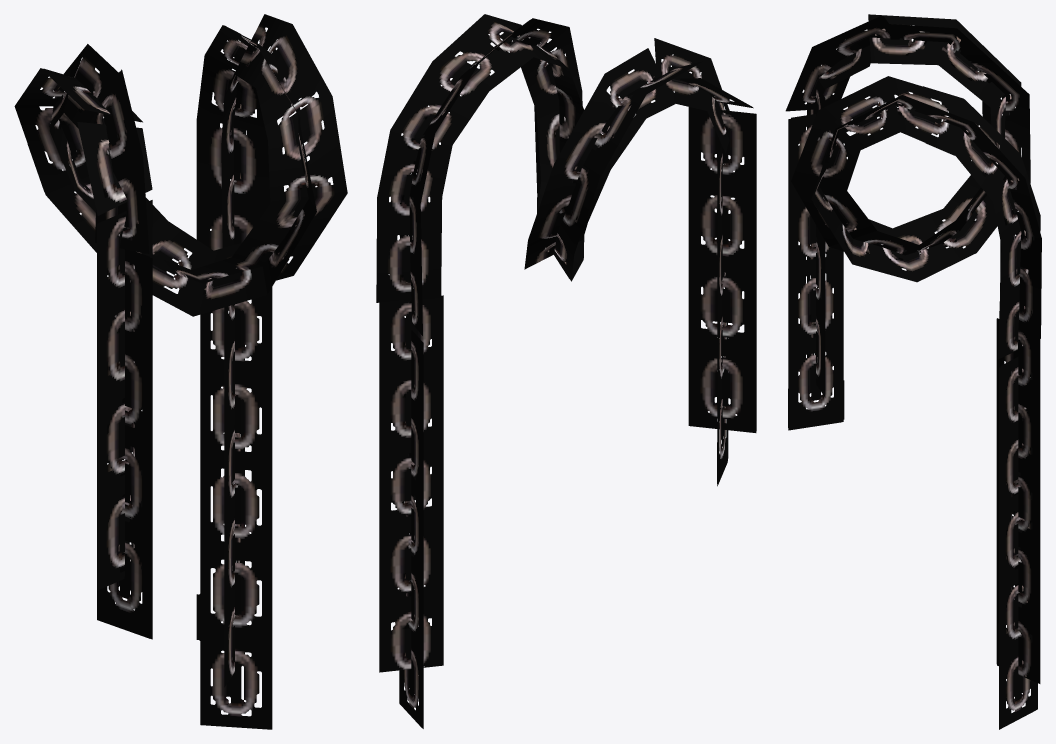
The model's file is chain_pipe03.dae.
3 views of the same model, side by side, from view 1: azimuth 30°, elevation 25°; view 2: azimuth 150°, elevation 25°; view 3: azimuth 270°, elevation 25° (orthographic). The views are drawn at different scales.
Parts seen in each view (by area): view 1: chain_pipe03; view 2: chain_pipe03; view 3: chain_pipe03.
Part boxes in pixels (x1,y1,x2,y2): chain_pipe03: [14, 14, 347, 729]; chain_pipe03: [376, 14, 756, 728]; chain_pipe03: [785, 14, 1041, 729].
Size of the model in its own units: 0.7731 by 1.93 by 0.717.
